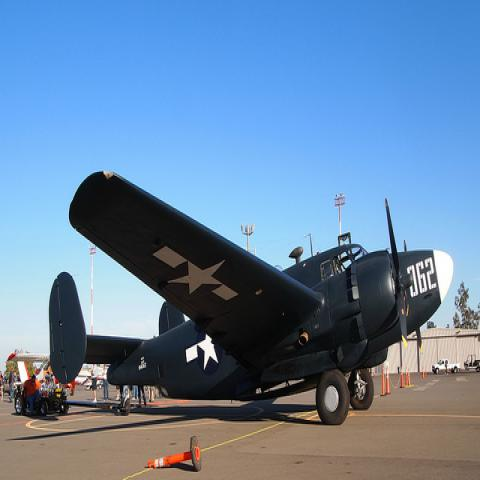truck: (432, 358, 461, 374)
